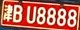B: (13, 5, 23, 22)
